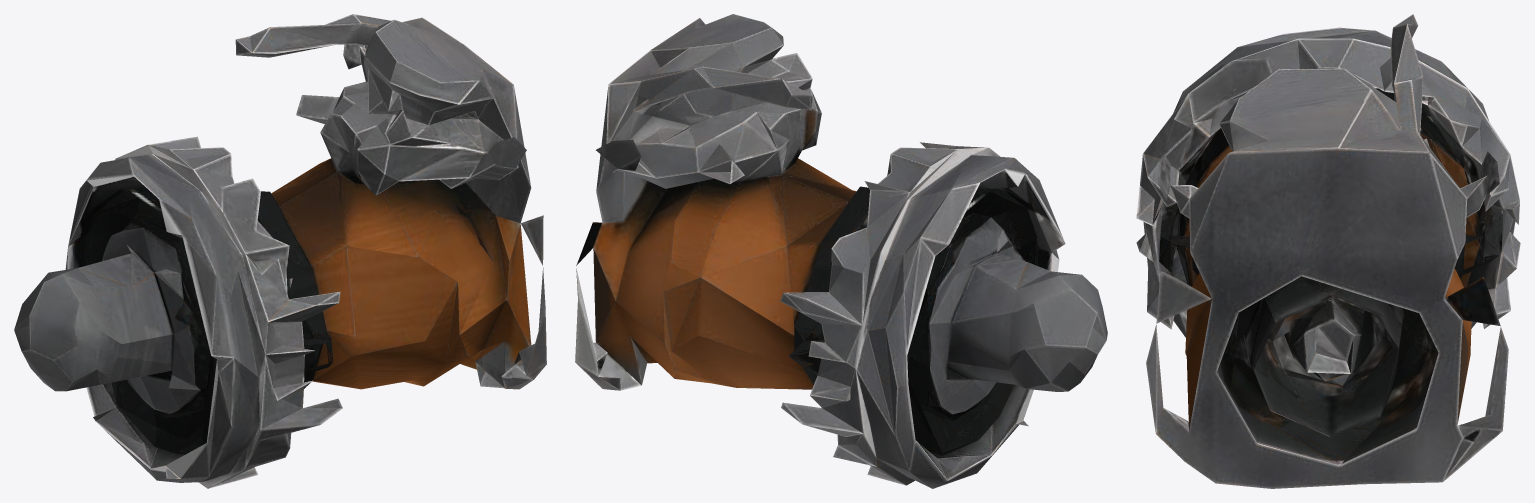
Rendered from module-gravity.glb.
The picture shows the model from 3 angles, left to right: view 1: azimuth 30°, elevation 25°; view 2: azimuth 150°, elevation 25°; view 3: azimuth 270°, elevation 25°; orthographic projection. The views are drawn at different scales.
Size of the model in its own units: 1.9 by 1.6 by 1.29.
Materials: 1 (1 with a texture image).
